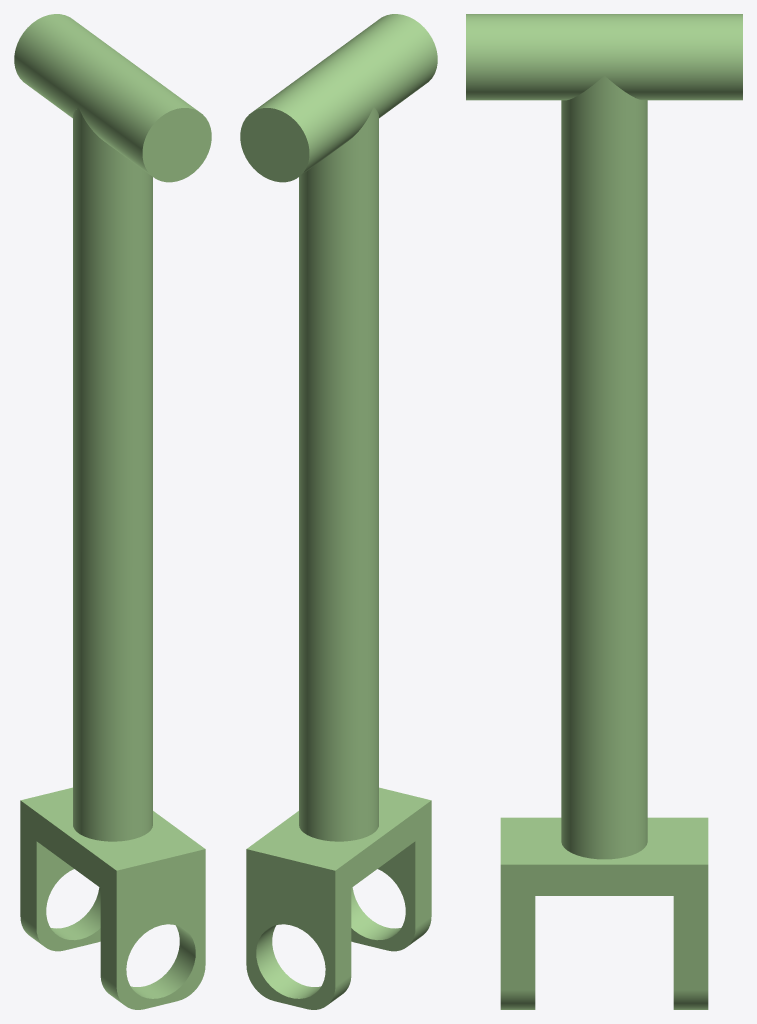
The model's file is upper_leg.dae.
3 views of the same model, side by side, from view 1: azimuth 30°, elevation 25°; view 2: azimuth 150°, elevation 25°; view 3: azimuth 270°, elevation 25° (orthographic). The views are drawn at different scales.
Parts seen in each view (by area): view 1: Part 1; view 2: Part 1; view 3: Part 1.
Part boxes in pixels (box(x1,y1,x2,y2)): Part 1: box(14, 14, 211, 1009); Part 1: box(240, 14, 437, 1009); Part 1: box(466, 14, 742, 1009).
Bounding box in the file's own units: 0.032 × 0.08 × 0.3125.
